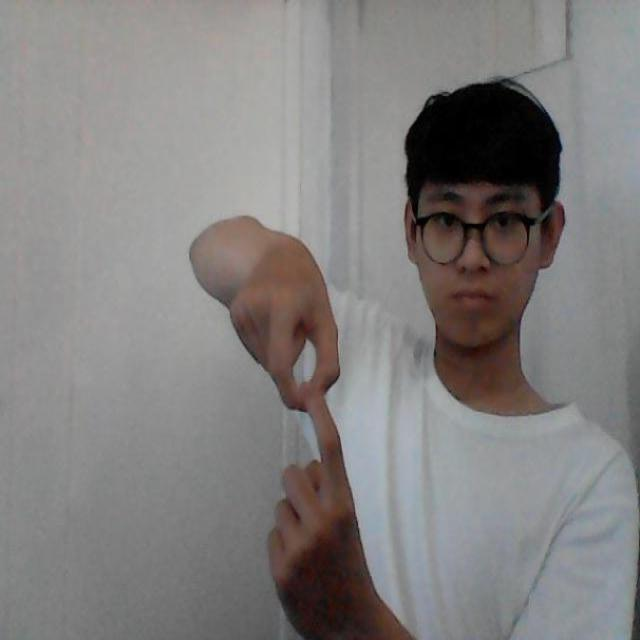Q: (238, 241, 371, 603)
